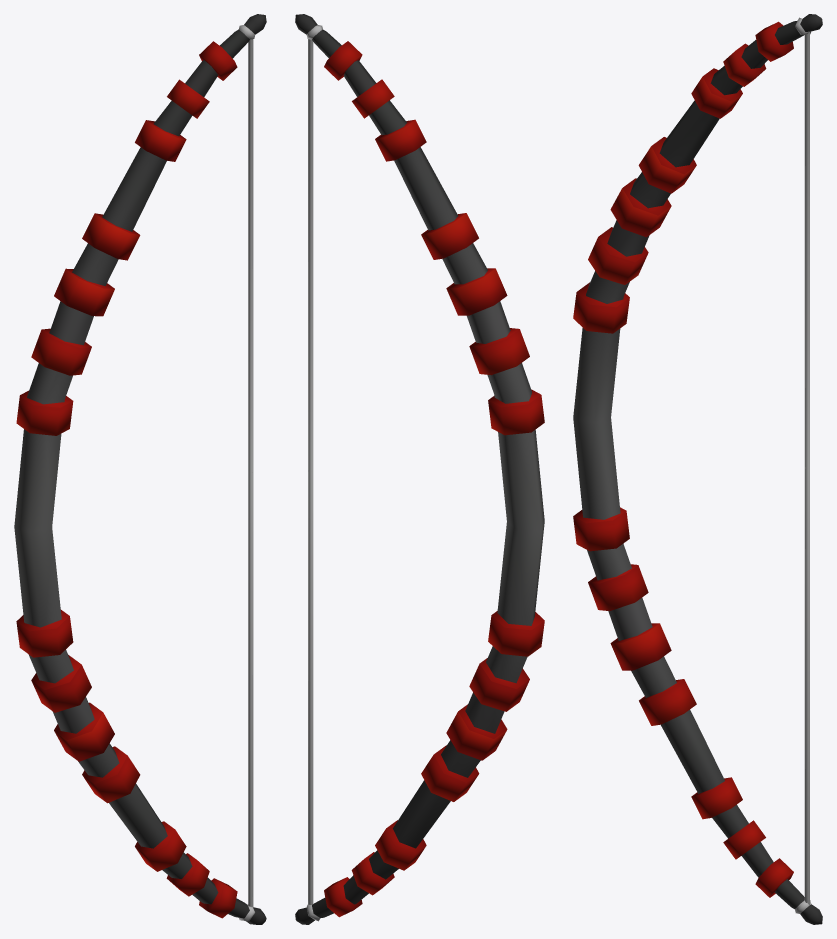
The model's file is Bow2h_07.fbx.
3 renders of one model, left to right at view 1: azimuth 30°, elevation 25°; view 2: azimuth 150°, elevation 25°; view 3: azimuth 330°, elevation 25°, orthographic.
Parts seen in each view (by area): view 1: Bow2h_07; view 2: Bow2h_07; view 3: Bow2h_07.
Part boxes in pixels (x1,y1,x2,y2): Bow2h_07: [14, 14, 266, 924]; Bow2h_07: [295, 14, 544, 924]; Bow2h_07: [573, 14, 822, 924].
Size of the model in its own units: 33.53 by 117 by 6.28.
